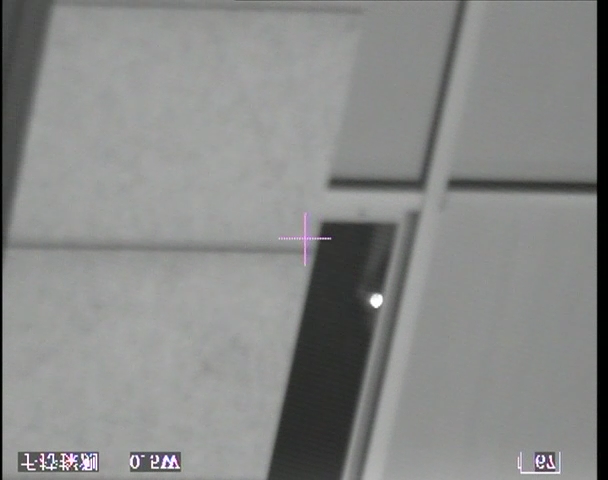my: (369, 292, 385, 309)
